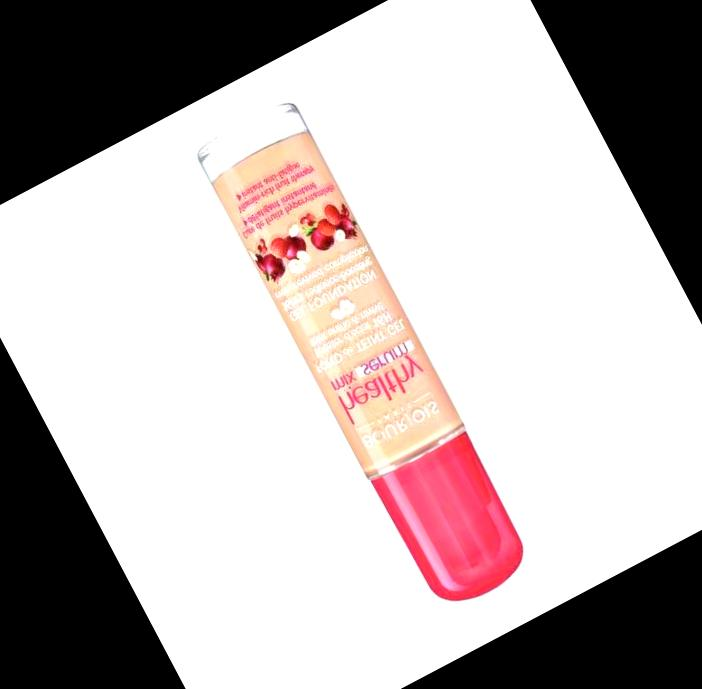cosmetic: (191, 99, 540, 619)
